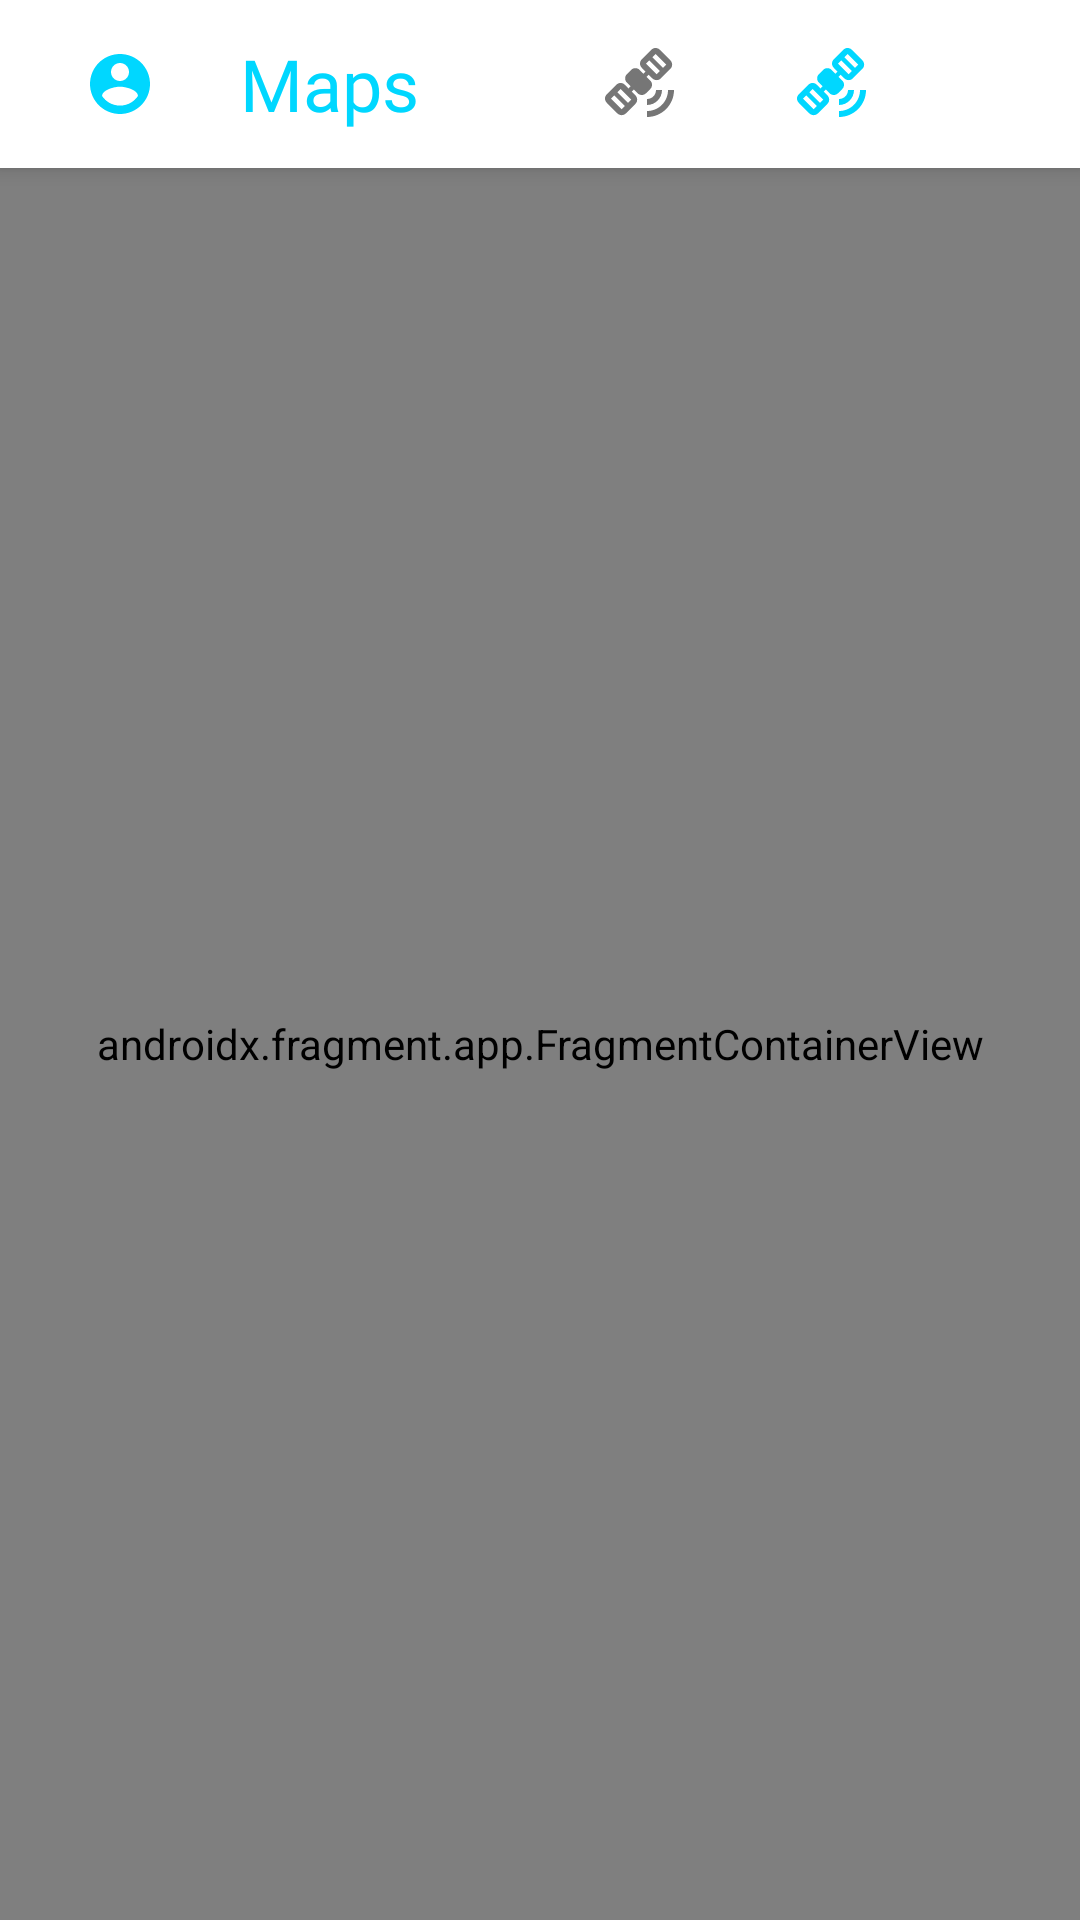

Where to tap for icons on this 1080×1920 app screen, as [x,y]:
Account: [120,84]
satellite: [639,82], [831,82]
